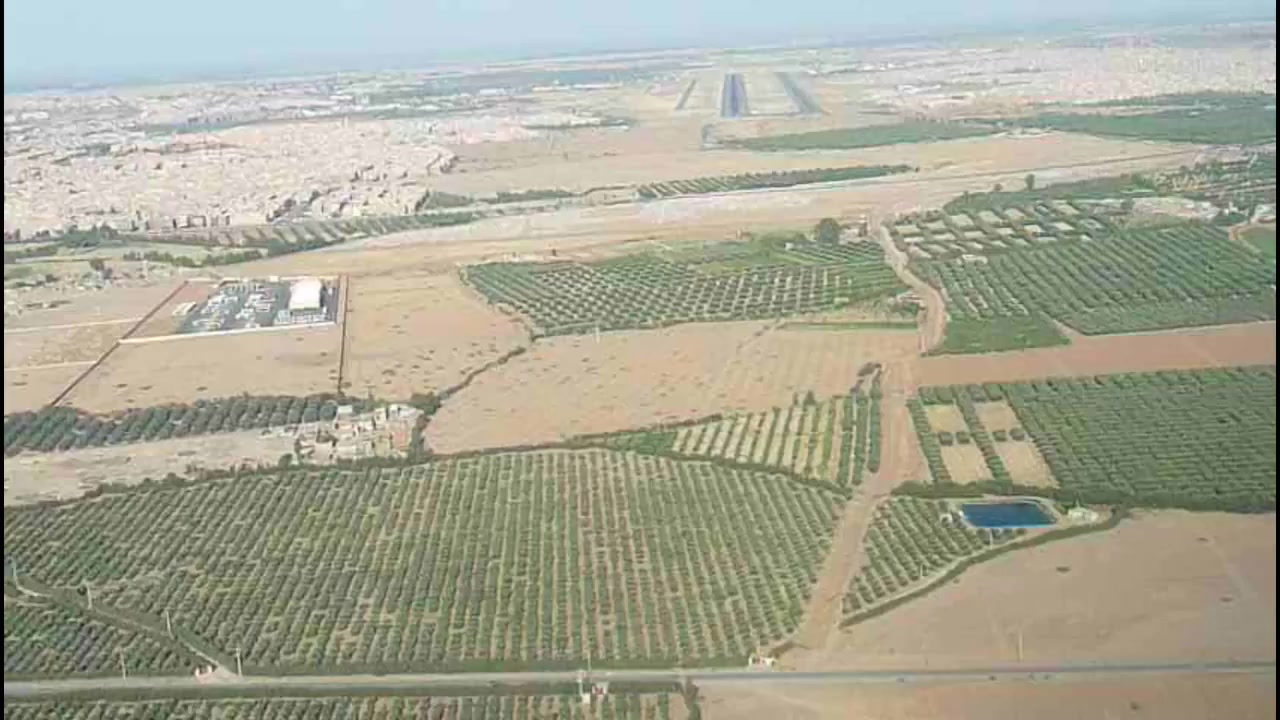runway: (715, 73, 752, 124)
